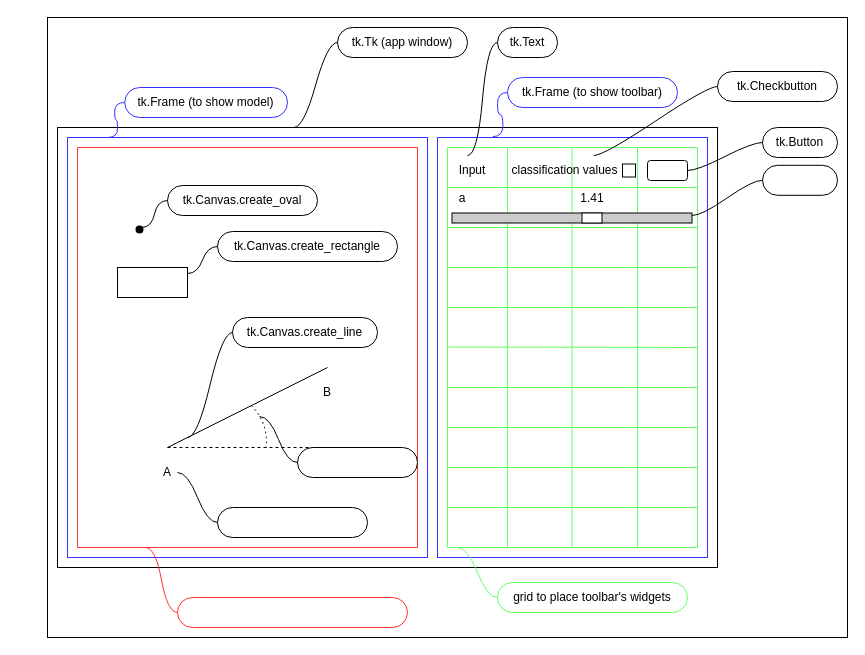
Some shapes in this 865 by 655 pixel diagram are drawn without their labels. Each missing label, with the centre of its shape:
Exit: [667,170]
tk.Canvas (to draw four-bar linkage): [292,612]
tk.Canvas.create_arc: [357,462]
tk.Canvas.create_text: [292,522]
tk.Scale: [800,179]
